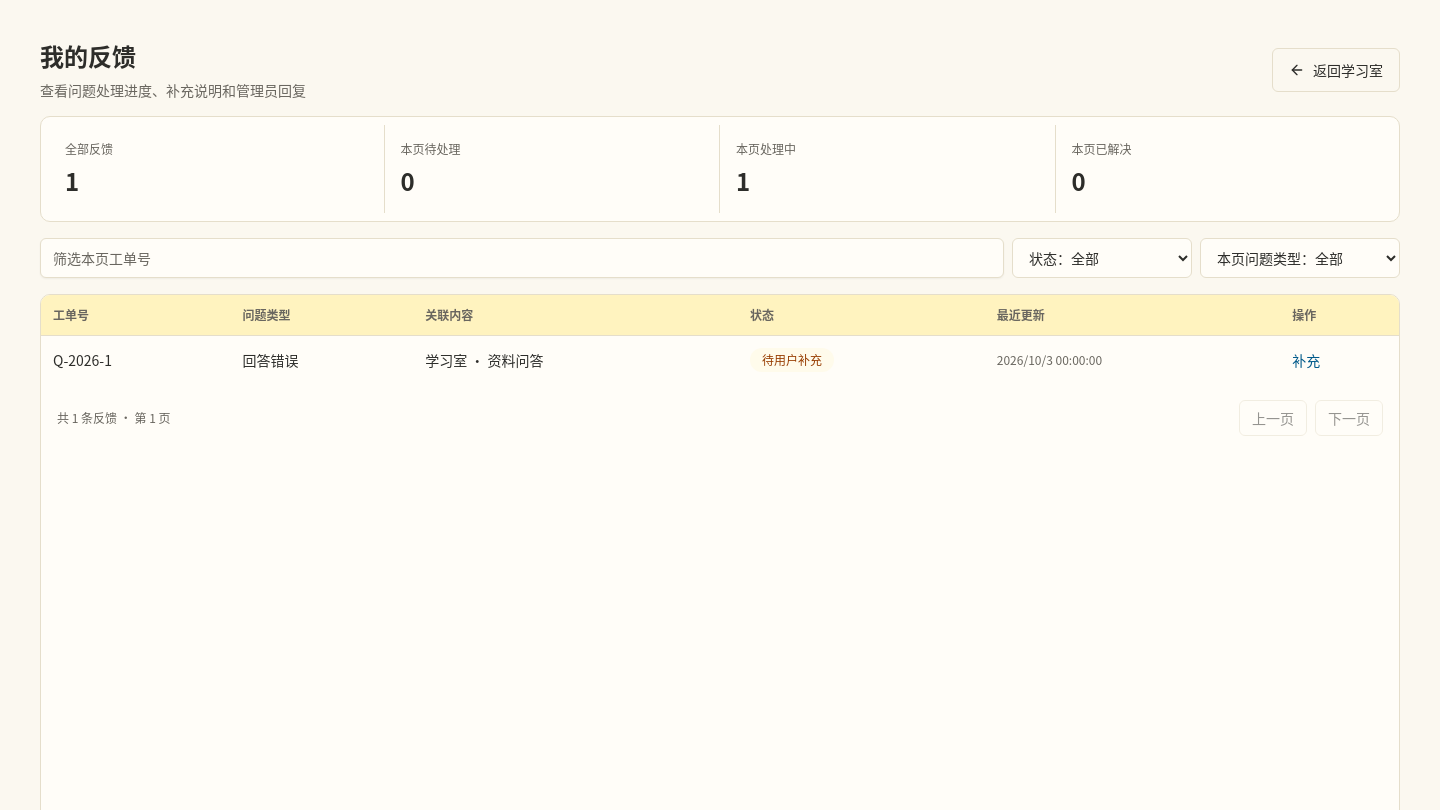
Test: 列表使用真实分页和status，页内筛选不冒充全局搜索
Expected: the text "Q-2026-1" is shown, [41,335,230,384]
Step 1. Type "missing" into the field labelled "筛选本页工单号" → (522, 258), box [40,238,1004,278]
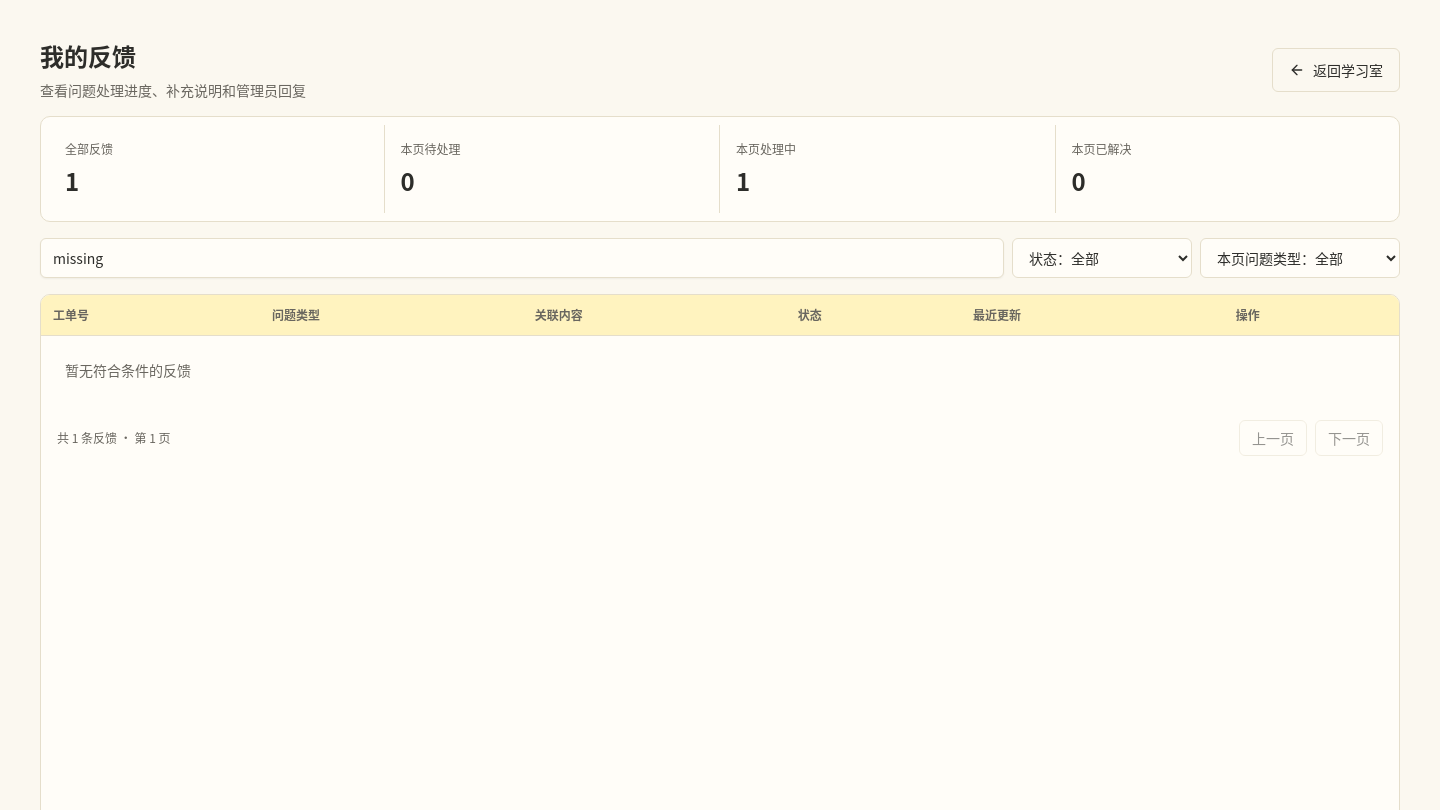
Expected: the text "Q-2026-1" is gone
Expected: the text "暂无符合条件的反馈" is shown, [65,360,191,380]
